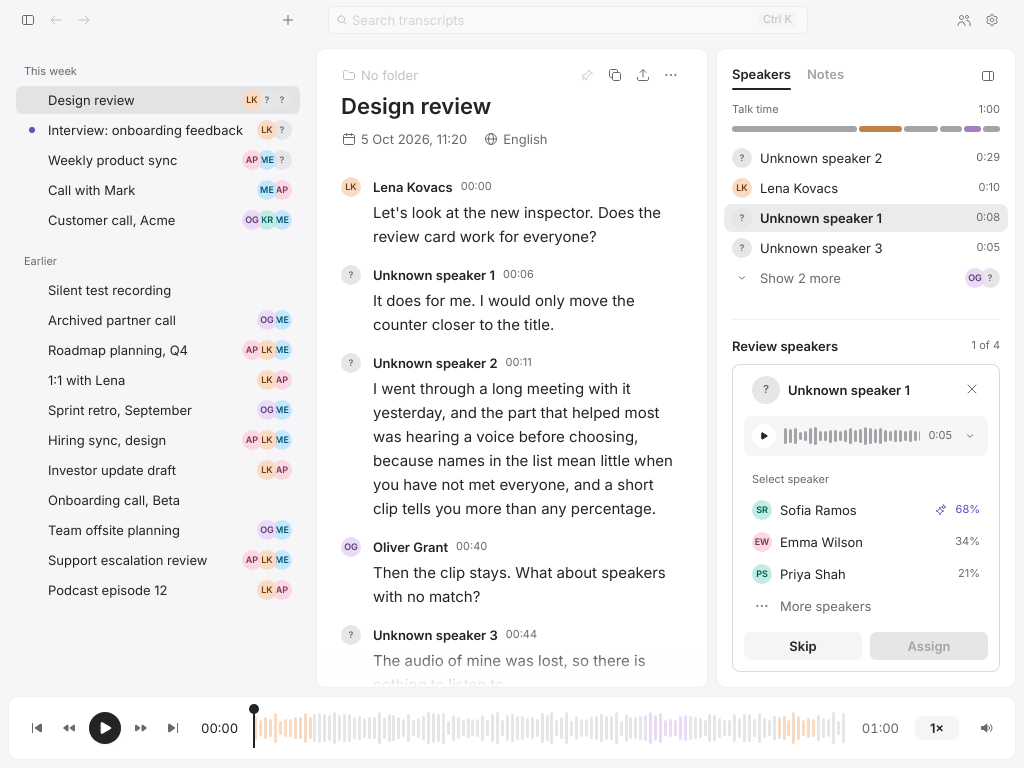
Test case: saving › a failure says so once and keeps the text, which is saved on the next try
The width and height of the screenshot is (1024, 768).
Check: the heading "Design review" is shown, box 341,93 -> 491,121
Click the tab "Notes": (826, 77) 807,64 -> 844,90
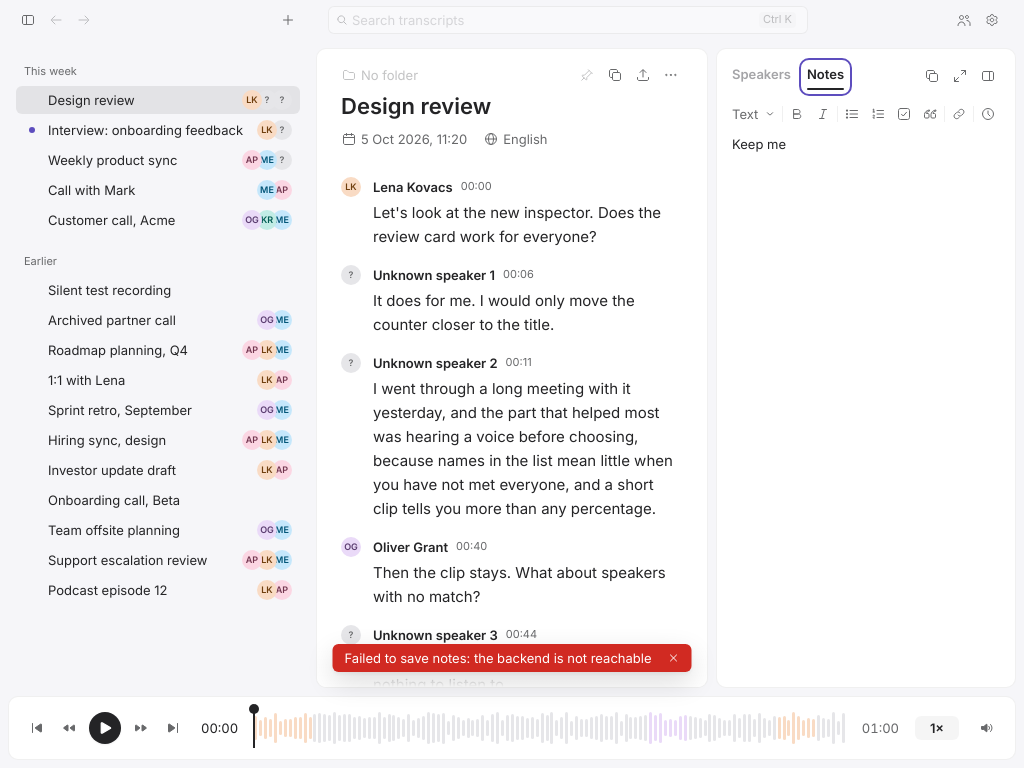
Check: the text box labelled "Keep me" is shown, box 732,136 -> 786,152
Check: the text "Failed to save notes: the backend is not reachable" is shown once, box 344,648 -> 652,668
